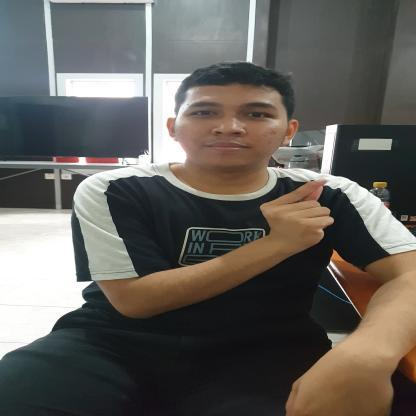R: (252, 178, 347, 254)
